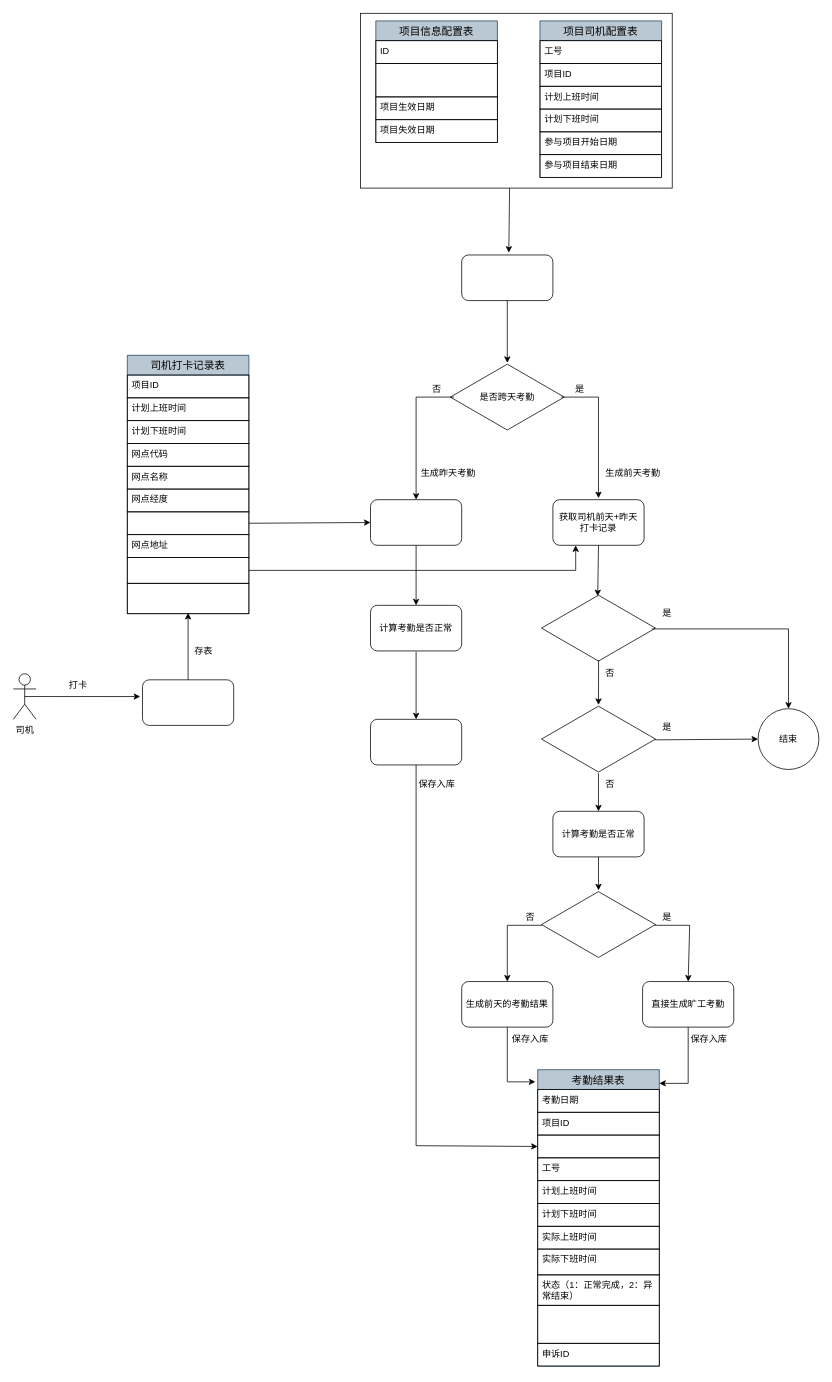
The diagram is 832 pixels wide and 1382 high, and some of its shapes have lost their labels. Here are the shapes that lost their labels. From the top down, the centre of each, then its label:
[436,80]: 项目状态（1：生效 0：失效 2：待生效 3：中止）
[507,277]: 获取计划上班时间在昨天的司机排班信息
[188,523]: 网点纬度
[416,522]: 获取司机昨天 打卡记录
[188,570]: 网点类型（1：大网，2：网外）
[188,598]: 签到/签退（1：签到，2：签退）
[598,627]: 是否项目第一天
[188,702]: 保存打卡记录
[416,742]: 生成昨天的考勤结果
[598,738]: 司机上班前一天 是否休息
[598,924]: 是否项目最后一天
[598,1146]: 司机配置ID
[598,1324]: 异常种类（1：迟到，2：旷工，3：质量不合格，4：早退）
